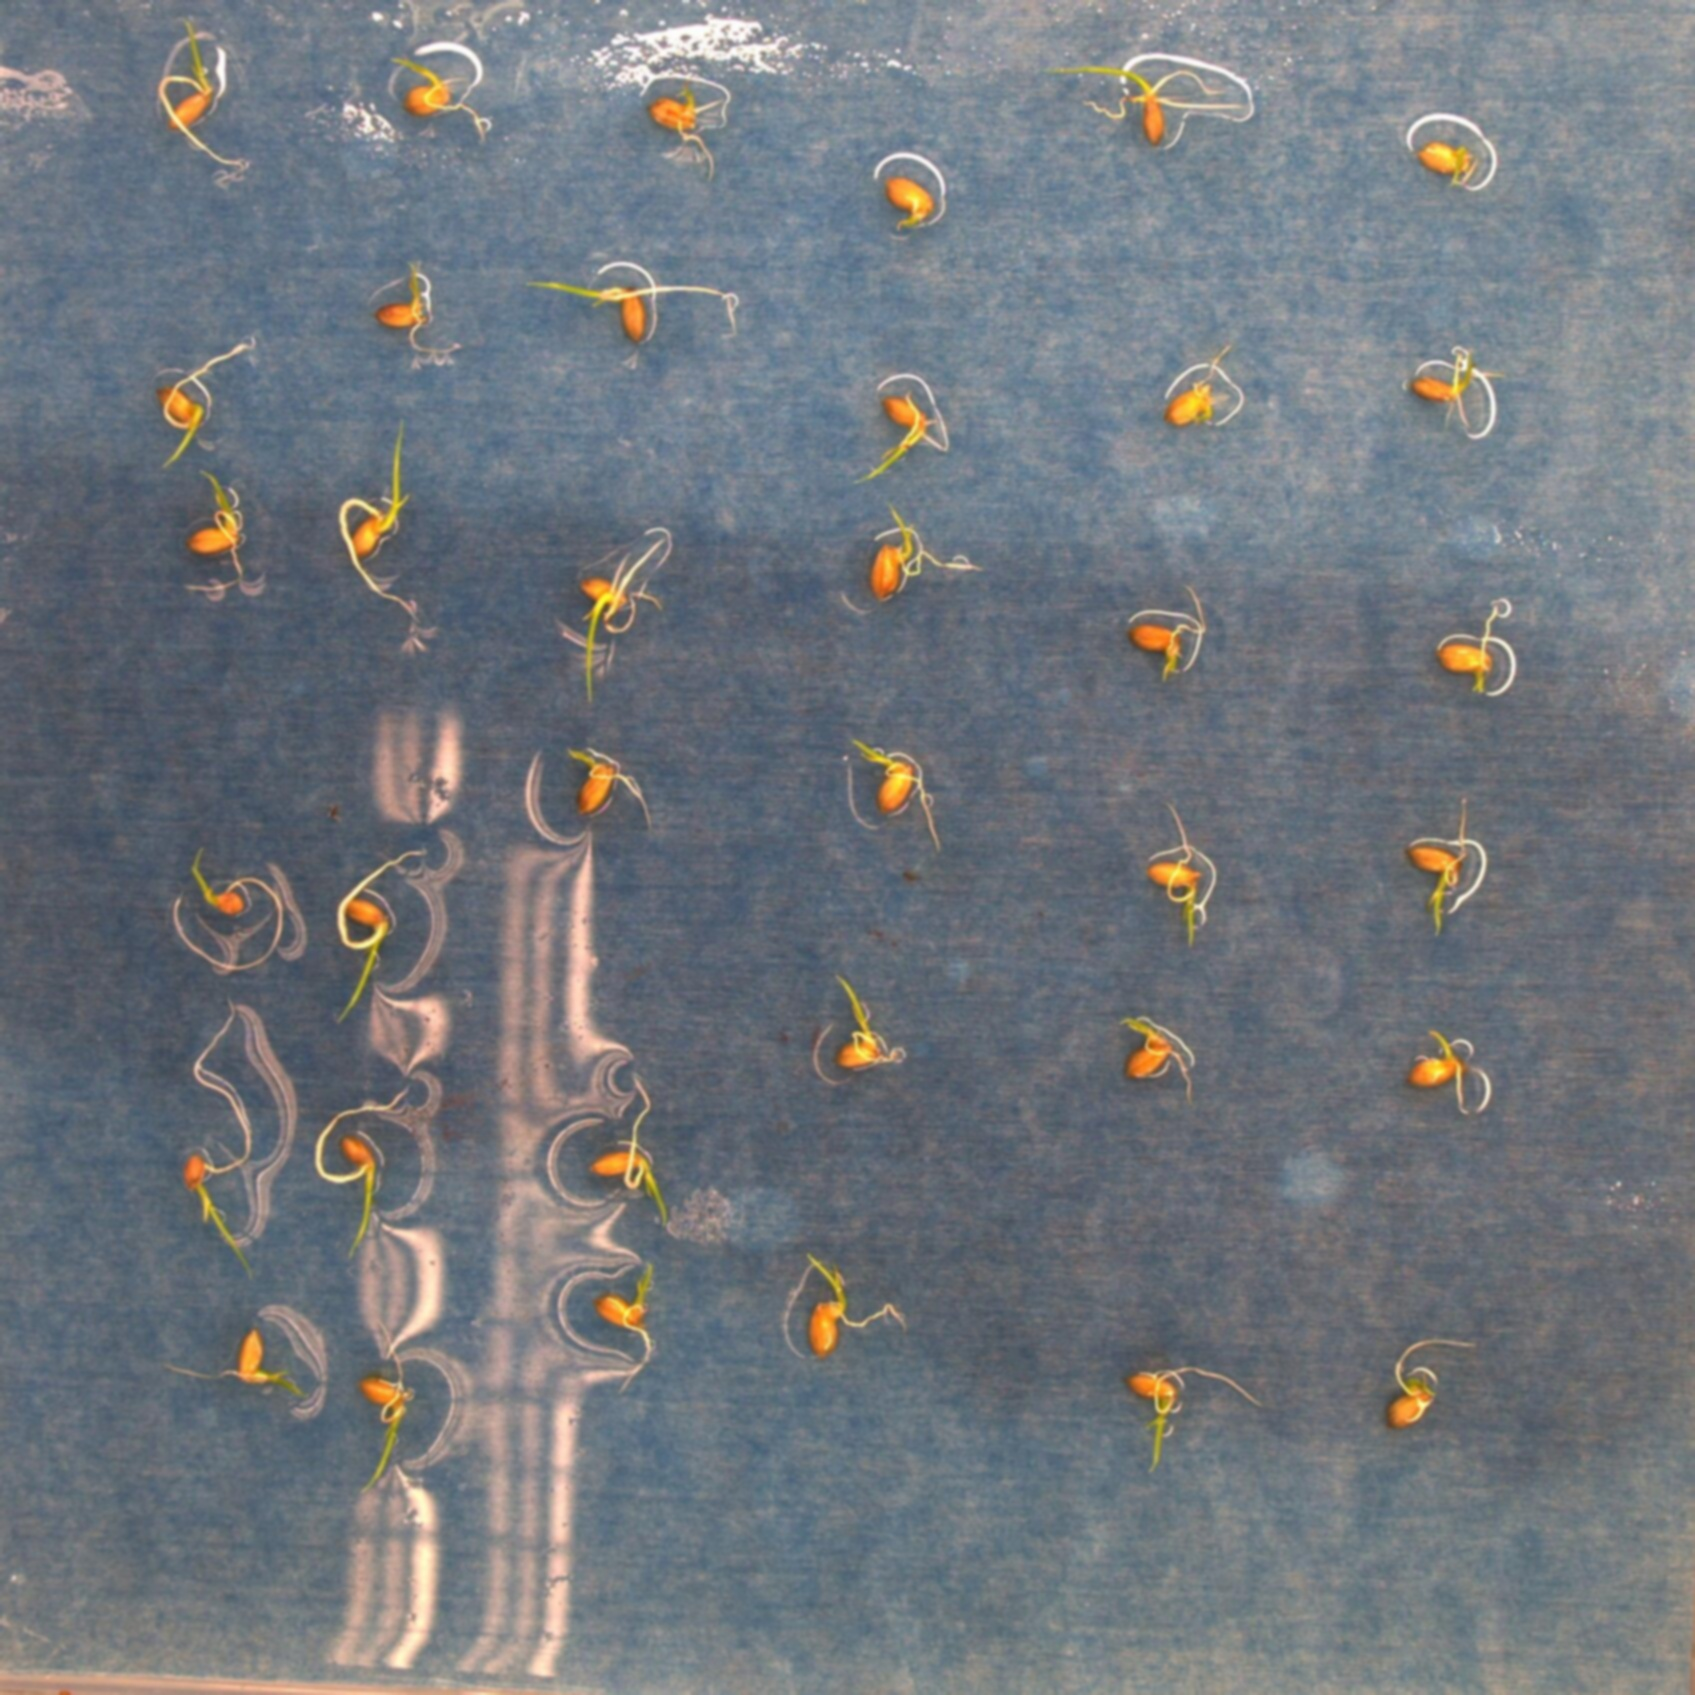not sprout: (1422, 590, 1523, 705), (1163, 328, 1251, 441), (1388, 1332, 1490, 1430), (1392, 133, 1498, 189), (875, 168, 947, 237)
sprout: (1040, 50, 1273, 158), (551, 528, 677, 703), (331, 418, 435, 626), (518, 258, 744, 349), (147, 9, 258, 182), (315, 844, 418, 1028), (135, 338, 261, 470), (778, 1253, 913, 1367), (1124, 1367, 1271, 1470), (1400, 790, 1492, 945), (844, 511, 984, 610), (171, 849, 282, 973), (377, 37, 500, 144), (1399, 341, 1523, 447), (582, 1069, 669, 1220), (180, 466, 276, 601), (1138, 799, 1218, 950), (636, 70, 742, 183), (846, 730, 948, 844), (318, 1118, 400, 1256), (857, 369, 958, 480), (349, 1329, 418, 1490), (360, 258, 466, 362), (587, 1254, 661, 1399), (177, 1319, 306, 1402), (1111, 587, 1220, 681), (172, 1142, 258, 1260), (1406, 1021, 1495, 1127), (820, 969, 906, 1073), (1113, 1010, 1209, 1101), (560, 744, 657, 827)
